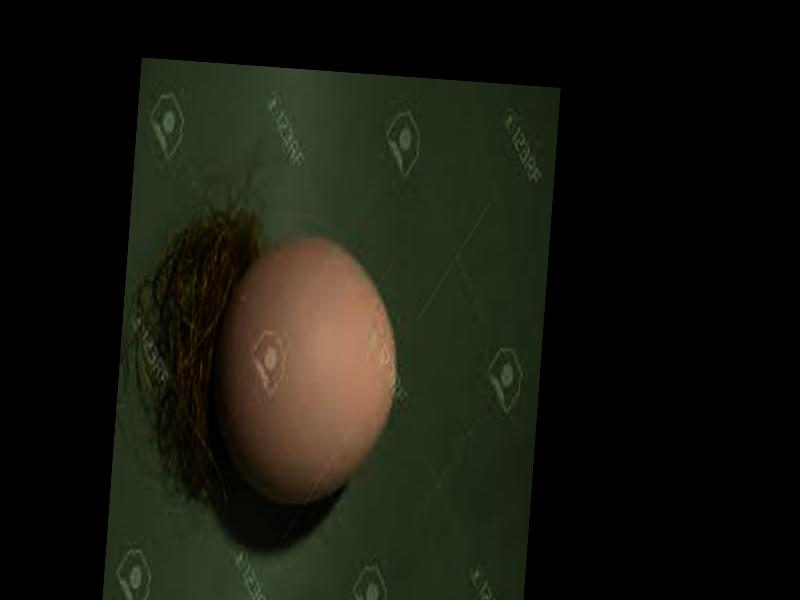Eggs: (207, 232, 407, 511)
